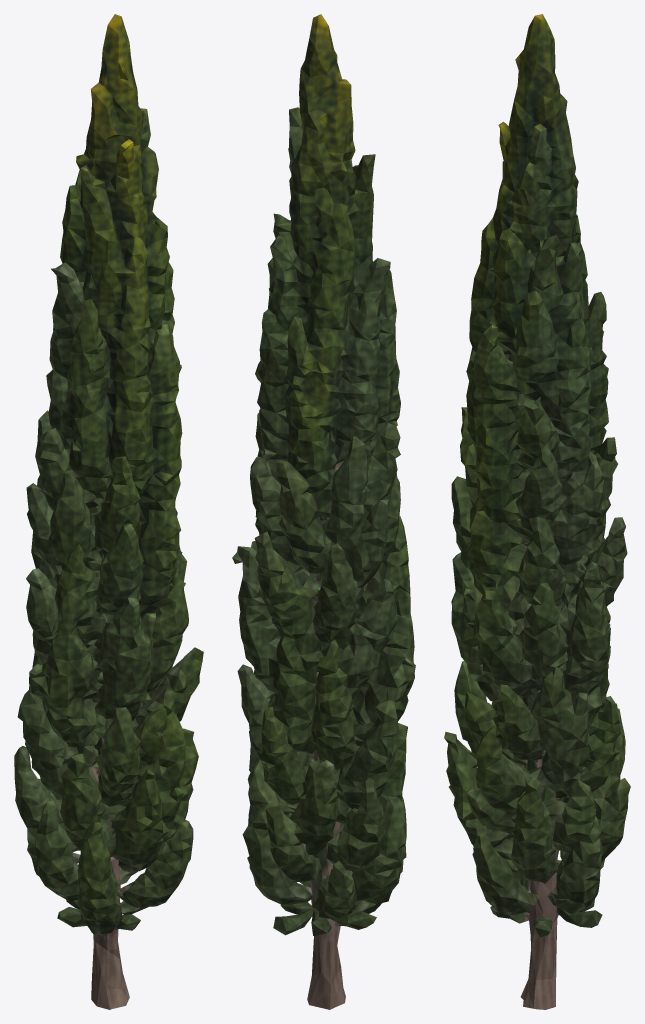
File: it_cypress.obj
3 views of the same model, side by side, from view 1: azimuth 30°, elevation 25°; view 2: azimuth 150°, elevation 25°; view 3: azimuth 270°, elevation 25° (orthographic).
Parts seen in each view (by area): view 1: it_cypress; view 2: it_cypress; view 3: it_cypress.
Part boxes in pixels (<box>): it_cypress: <box>14,14,203,1009</box>; it_cypress: <box>232,14,415,1009</box>; it_cypress: <box>444,14,630,1009</box>.
Bounding box in the file's own units: 2.11 × 12 × 2.05.
1 material, 1 textured.
